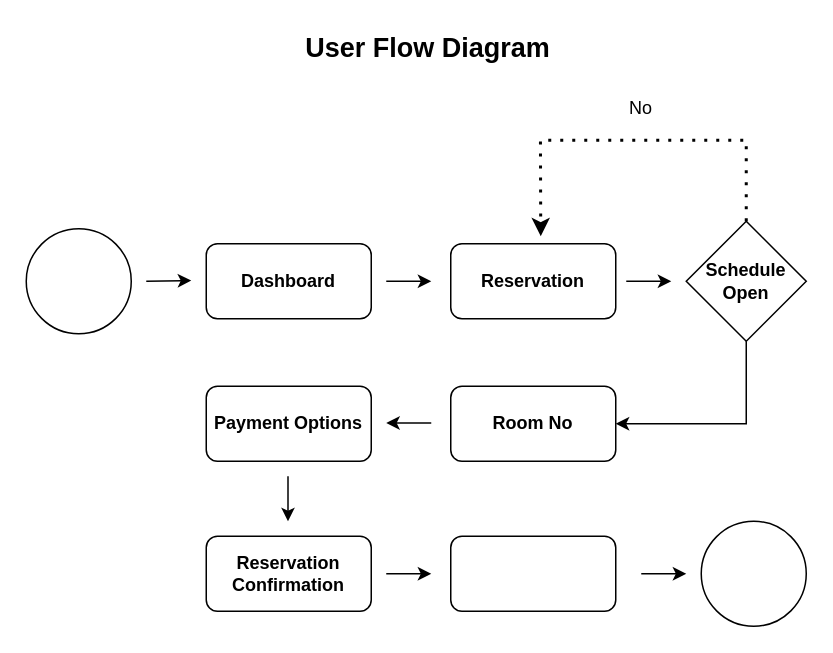
This 833x653 diagram has some shape labels left out. Here are the shapes that lost their labels. From the top down, the centre of each, then its label:
(x=78, y=280): Start
(x=532, y=573): Sms Notification
(x=753, y=573): Finish
